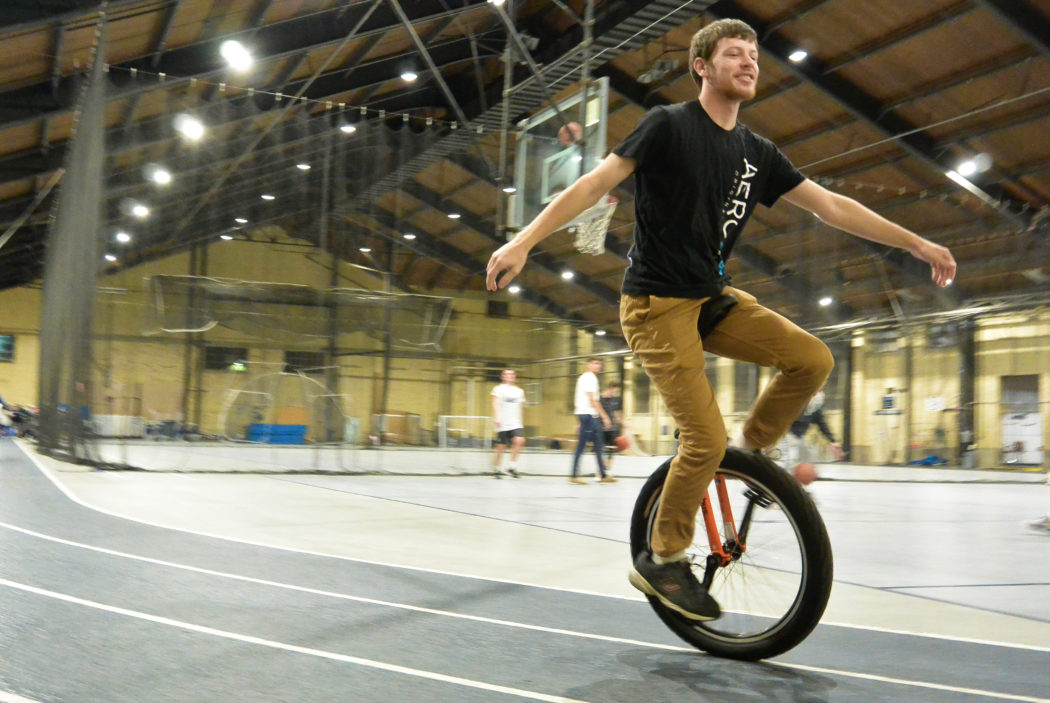wheel: (618, 411, 870, 677)
